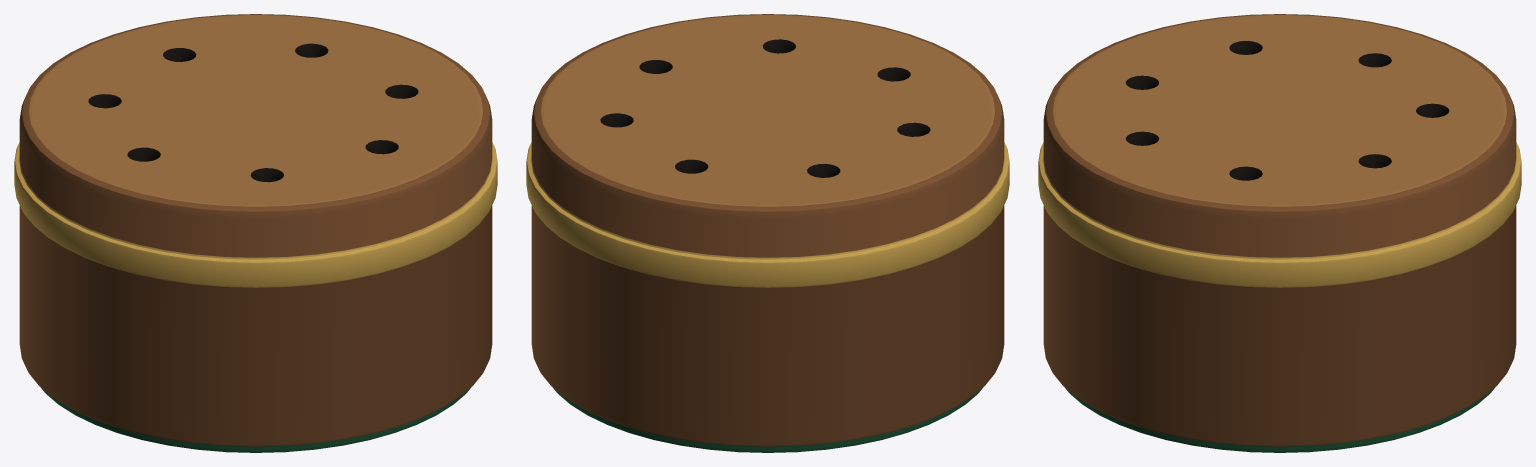
File: DartHolder.fbx
The picture shows the model from 3 angles, left to right: view 1: azimuth 30°, elevation 25°; view 2: azimuth 150°, elevation 25°; view 3: azimuth 270°, elevation 25°; orthographic projection.
Visible parts, largest first — view 1: DartHolder; view 2: DartHolder; view 3: DartHolder.
Boxes of the visible parts, x1,y1,x2,y2 form: DartHolder: (14,14,497,452); DartHolder: (526,14,1009,452); DartHolder: (1038,14,1521,452).
Size of the model in its own units: 0.133 by 0.075 by 0.133.
